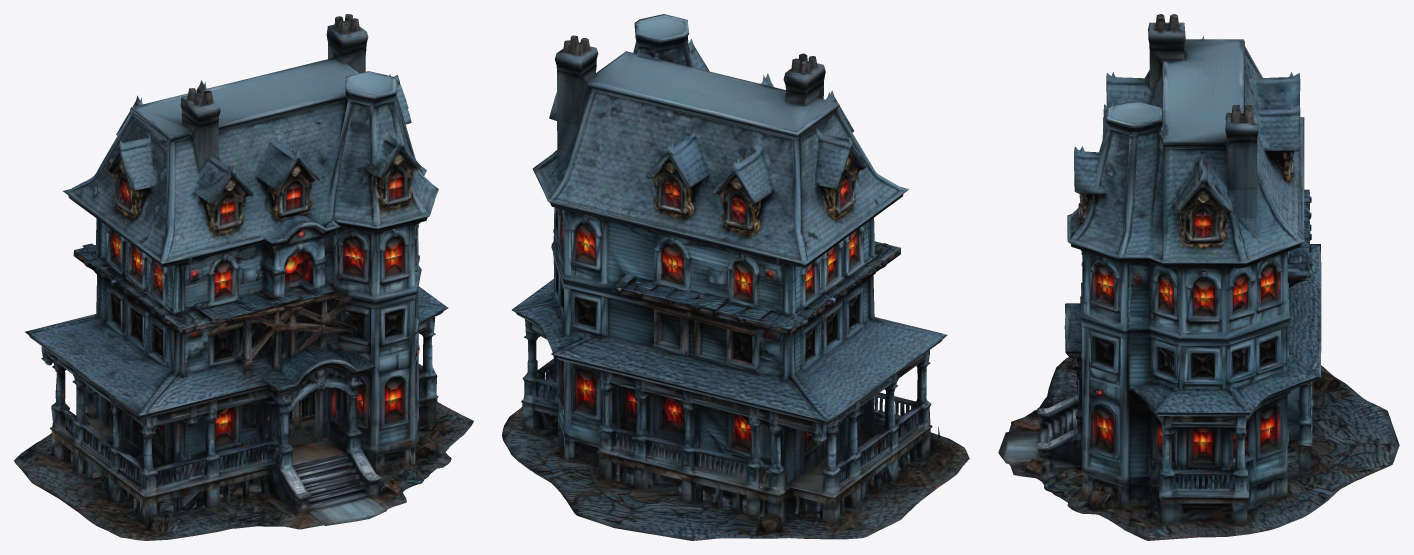
Rendered from gothic-house.glb.
3 views of the same model, side by side, from view 1: azimuth 30°, elevation 25°; view 2: azimuth 150°, elevation 25°; view 3: azimuth 270°, elevation 25° (orthographic). The views are drawn at different scales.
Visible parts, largest first — view 1: node_0; view 2: node_0; view 3: node_0.
Boxes of the visible parts, left/top/right/bottom form: node_0: left=14, top=14, right=473, bottom=540; node_0: left=502, top=14, right=969, bottom=540; node_0: left=998, top=14, right=1399, bottom=540.
Bounding box in the file's own units: 0.8433 × 0.7932 × 0.7334.
1 material, 1 textured.
